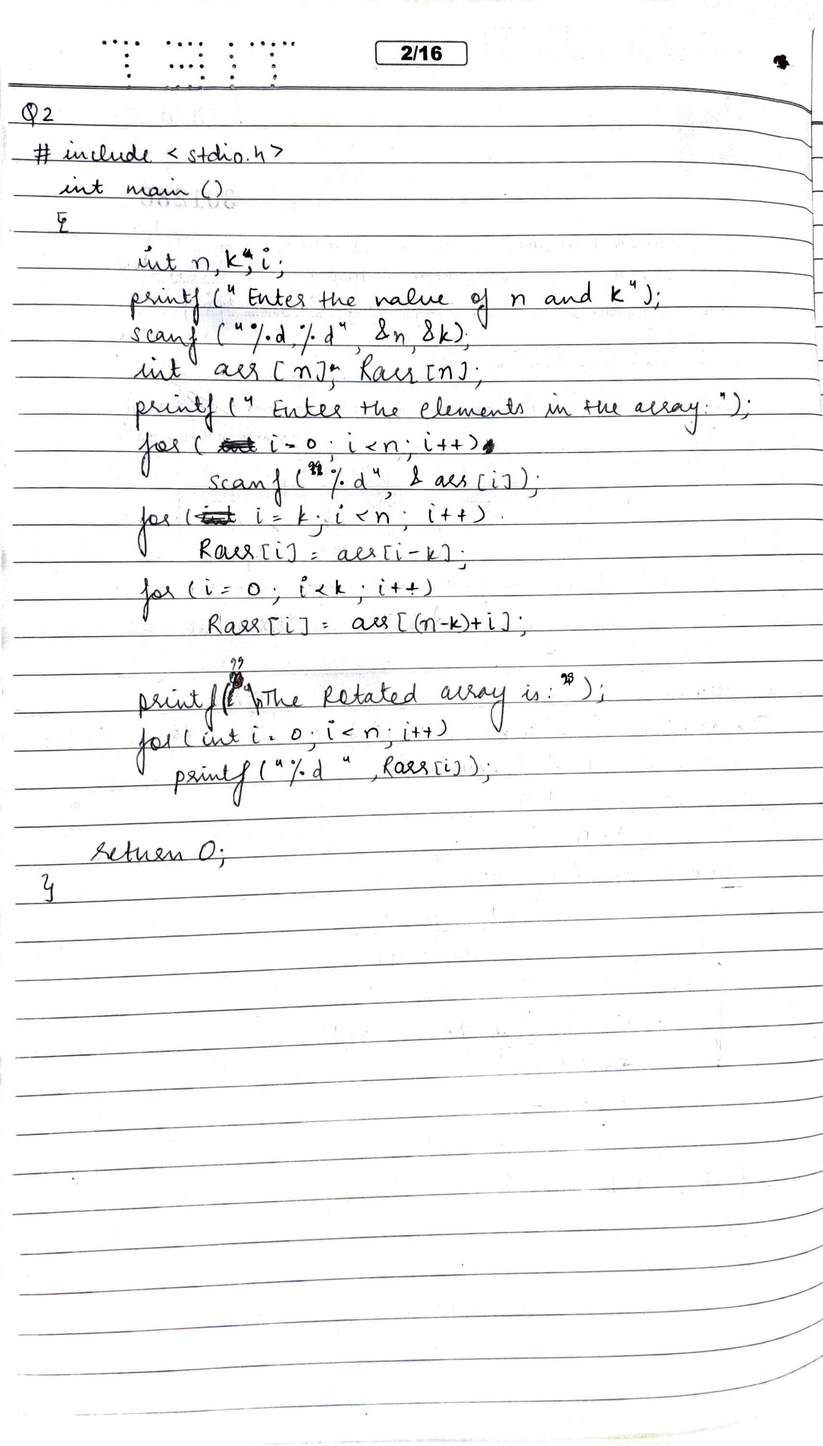cuttings: (193, 503, 238, 528), (216, 435, 259, 454), (227, 671, 245, 708), (481, 437, 496, 454), (242, 247, 254, 260)
